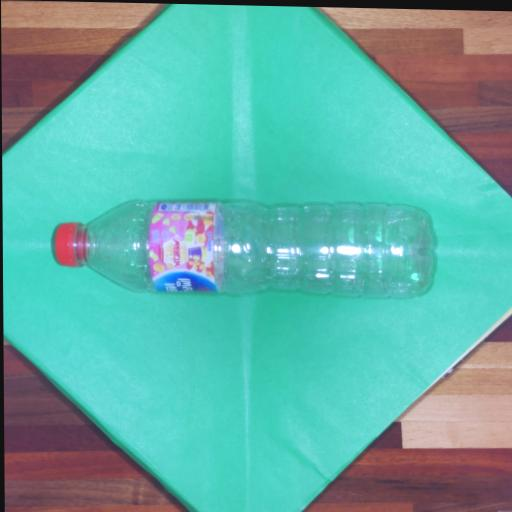bottle: (49, 192, 438, 303)
